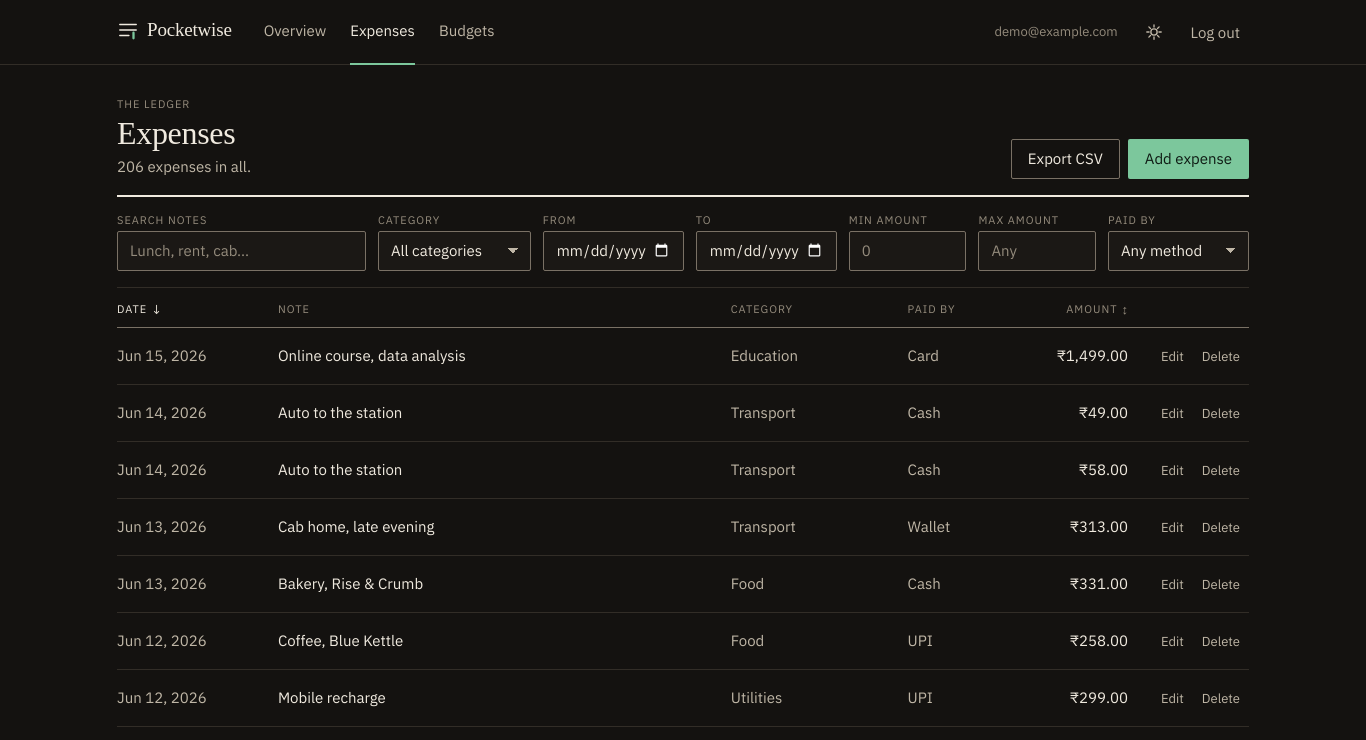
Scenario: add, edit and delete › keeps the expense when the confirmation is declined
Step 1. Click the button "Delete " in the row of "Jun 15, 2026" → (1221,356), box [1193,340,1249,372]
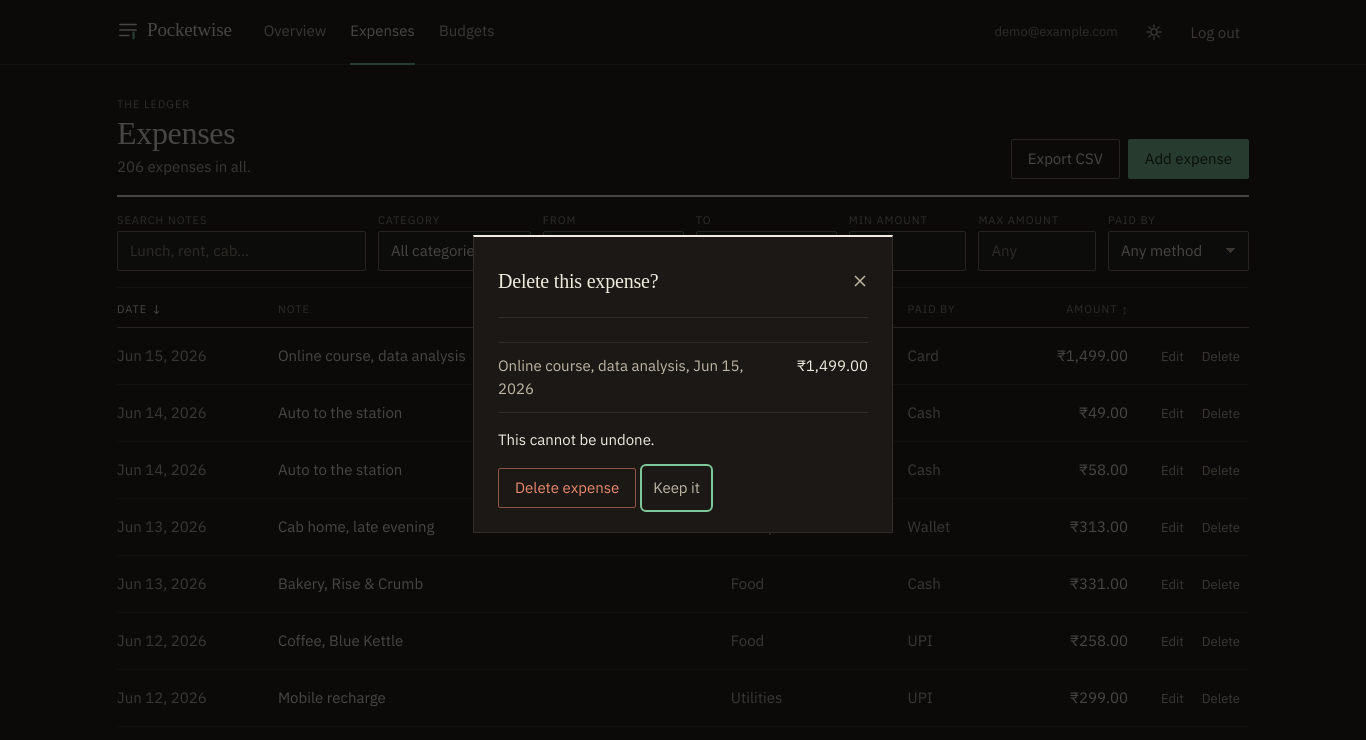
Step 2. Click the button "Keep it" → (677,488), box [644,468,709,508]
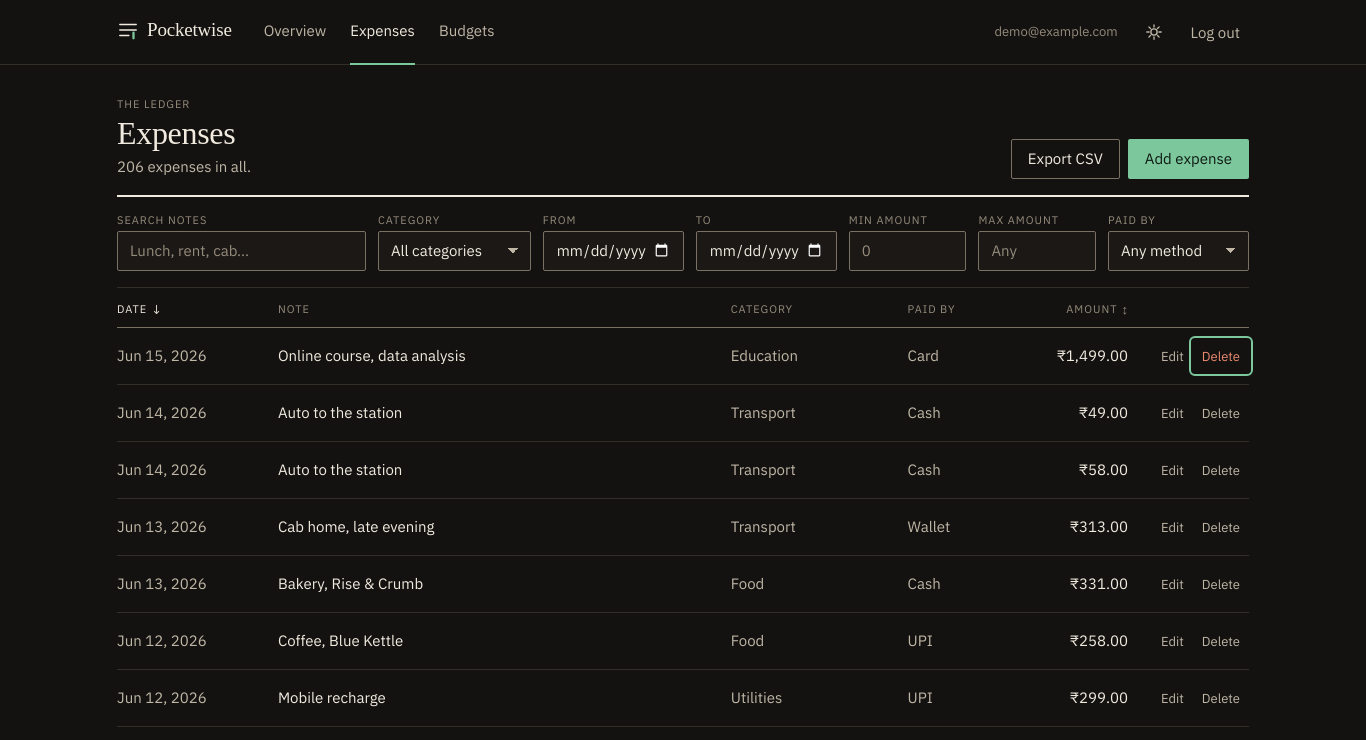
Expected: the dialog is gone
